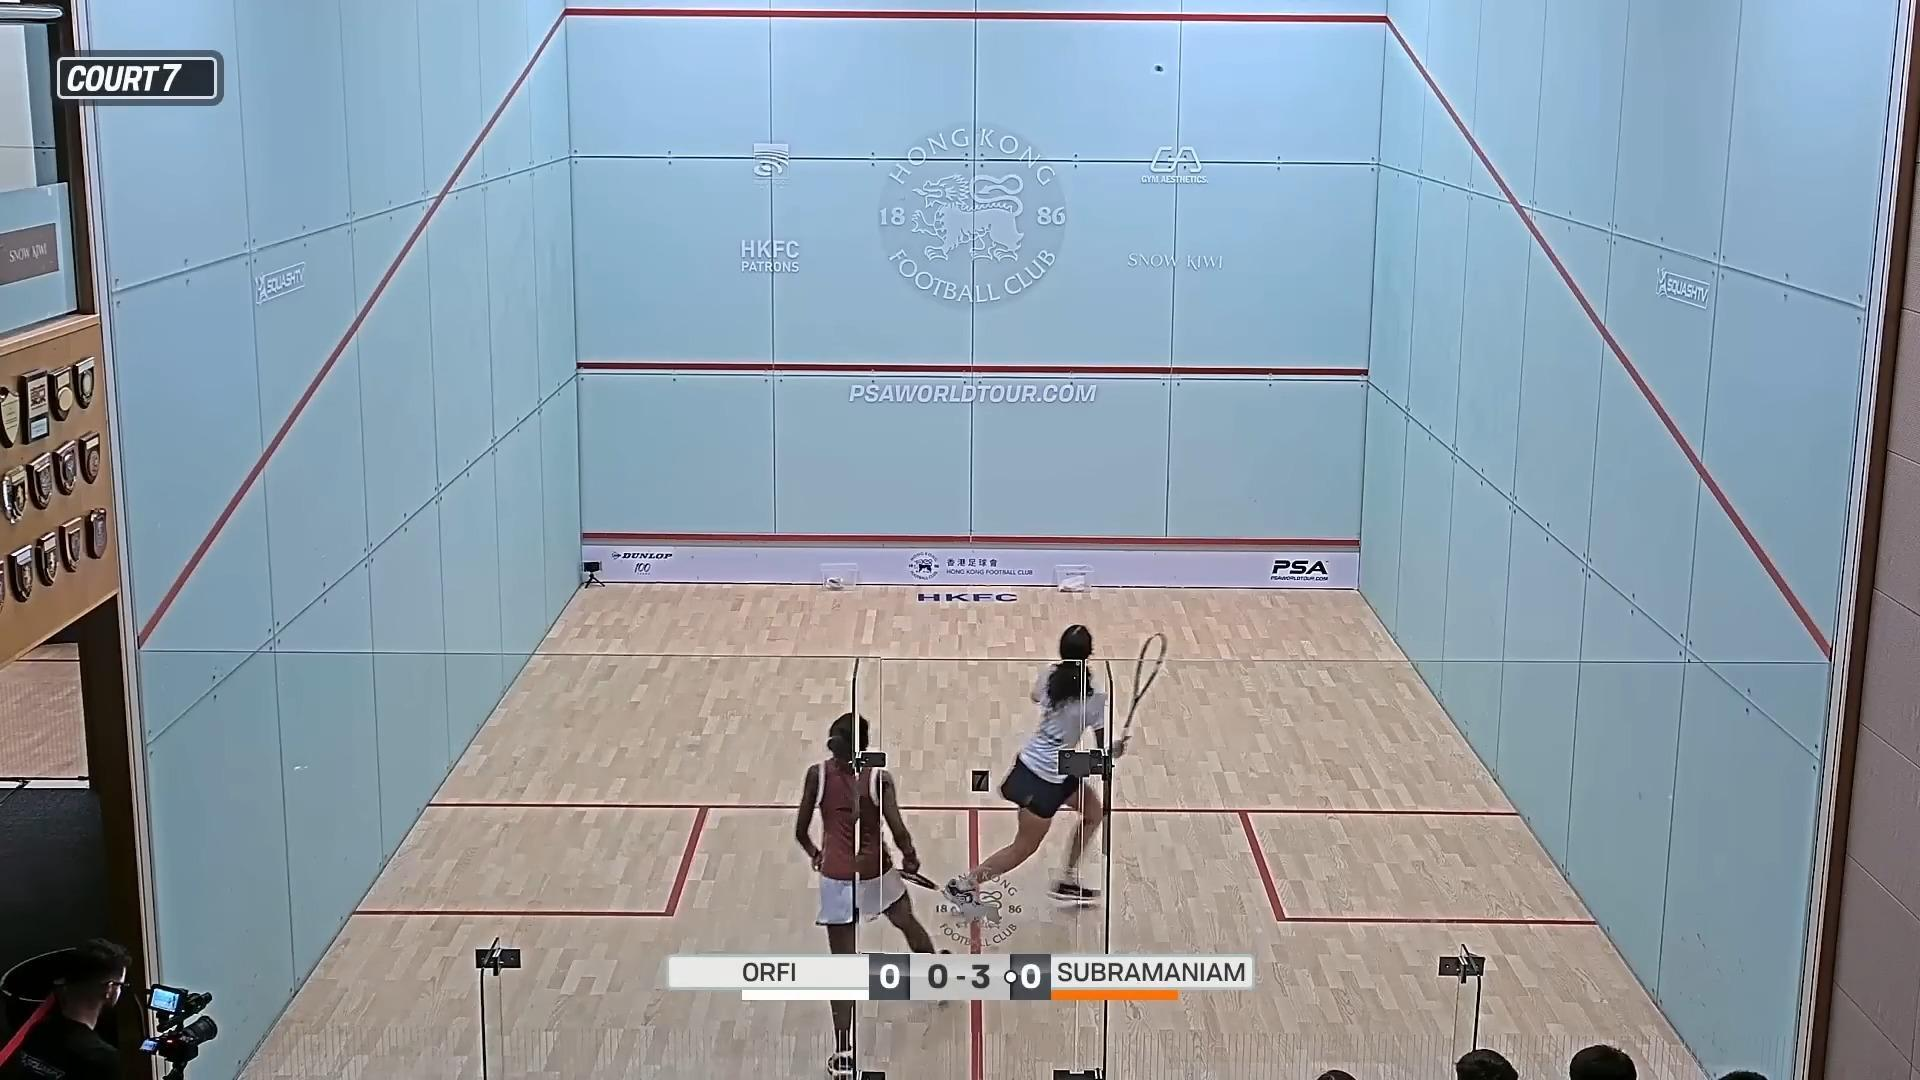Squash-Ball: (1142, 49, 1174, 84)
